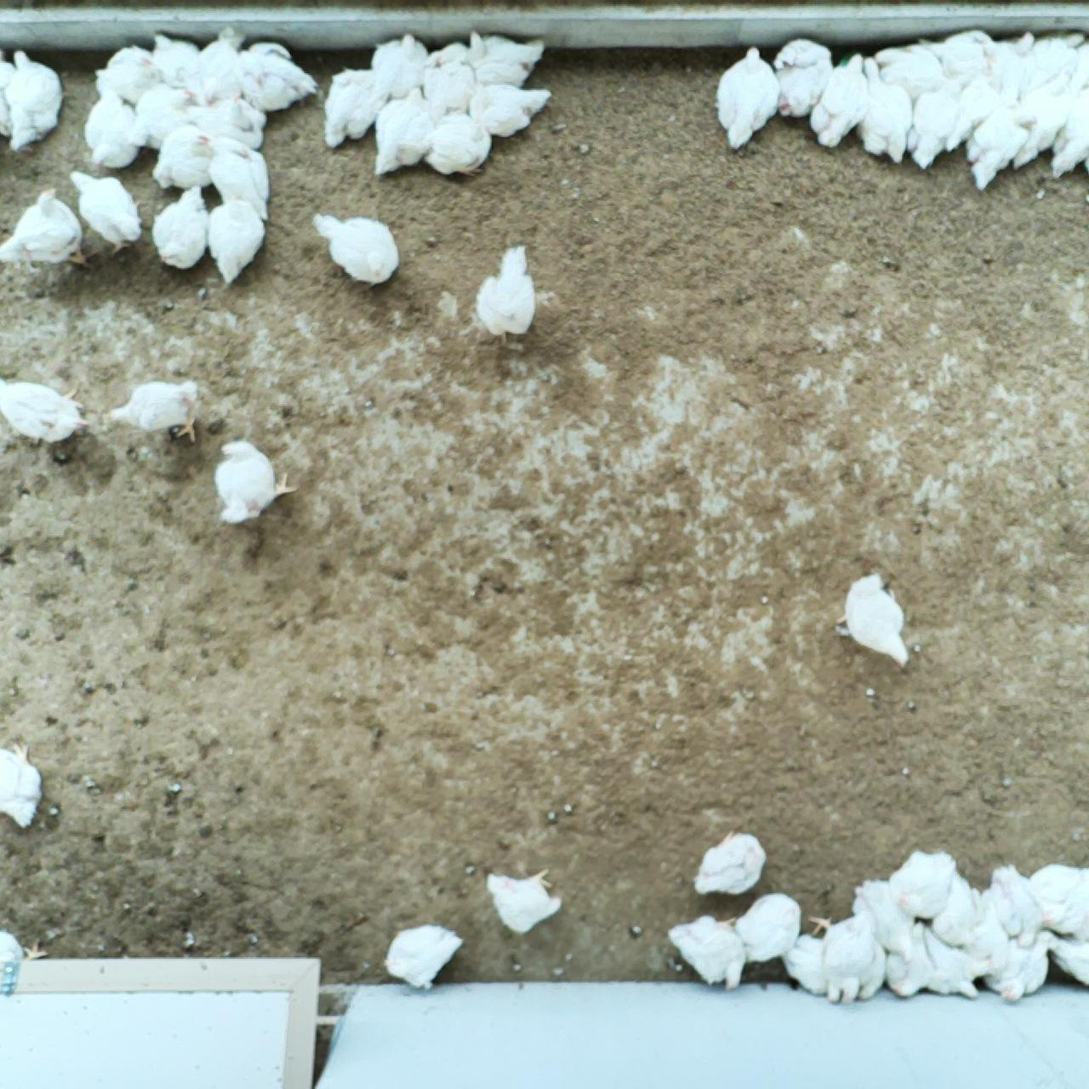chicken: (0, 185, 102, 273), (208, 438, 299, 526), (834, 572, 914, 672), (311, 207, 404, 289), (65, 166, 146, 258), (475, 243, 544, 349), (807, 912, 886, 1002), (669, 908, 748, 996), (714, 44, 780, 149), (107, 376, 203, 448), (1009, 71, 1077, 171), (964, 107, 1038, 196), (0, 48, 65, 149), (371, 85, 437, 183), (378, 920, 468, 991), (200, 196, 269, 288), (0, 374, 88, 446), (849, 874, 920, 962), (807, 52, 867, 152), (151, 182, 214, 277), (210, 135, 275, 227), (237, 42, 319, 114), (861, 55, 915, 164), (980, 931, 1059, 1005), (907, 78, 967, 175), (484, 866, 565, 937), (691, 826, 769, 898), (985, 860, 1048, 949), (322, 65, 390, 146), (773, 34, 837, 119), (83, 83, 145, 168), (885, 846, 959, 916), (948, 57, 1003, 149), (424, 110, 495, 180), (1020, 30, 1088, 101), (187, 27, 247, 107), (871, 39, 944, 103), (922, 926, 984, 1001), (469, 82, 553, 137), (740, 888, 805, 959), (1044, 80, 1089, 181), (462, 28, 542, 84), (151, 123, 217, 190), (1028, 861, 1089, 933), (883, 918, 933, 1005), (187, 94, 265, 147), (133, 78, 196, 143), (368, 33, 431, 97), (0, 740, 43, 832), (935, 872, 987, 946), (96, 43, 156, 105), (785, 924, 831, 998), (150, 28, 204, 87), (421, 62, 483, 113), (997, 27, 1037, 97), (920, 29, 998, 60), (1047, 934, 1089, 988), (0, 926, 48, 964), (429, 40, 472, 67)
